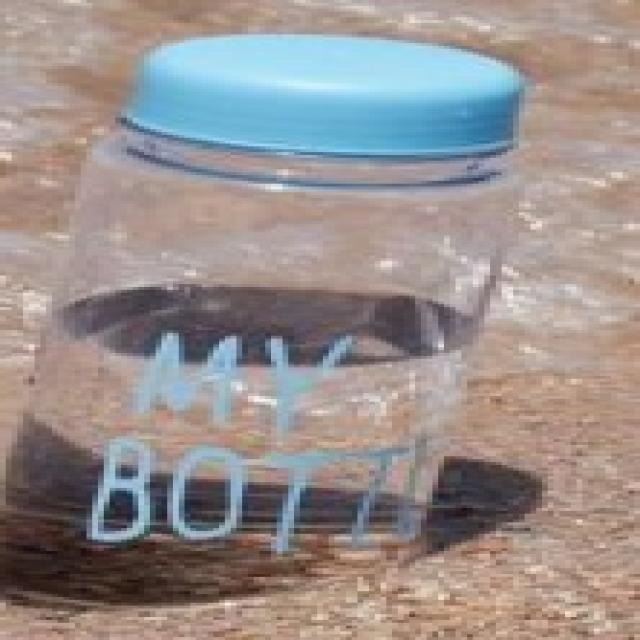electronic: (0, 32, 522, 609)
